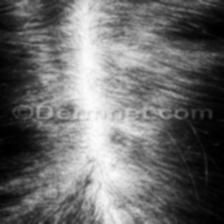Non-Cancerous Skin Condition: (106, 127, 124, 148), (119, 58, 142, 74), (84, 176, 95, 188)
